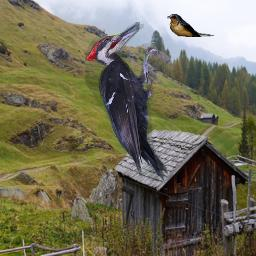Swallow: (167, 14, 214, 37)
Woodpecker: (85, 22, 168, 181)
